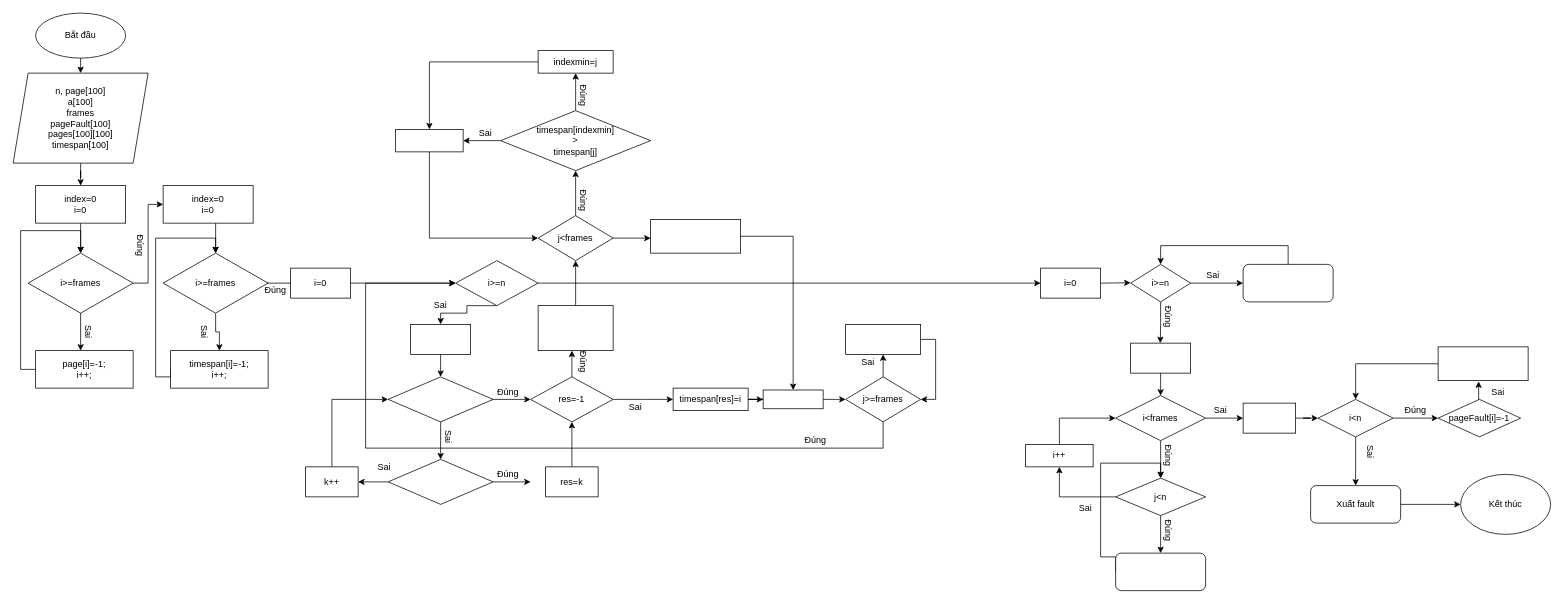
Some shapes in this 1564 by 604 pixel diagram are drawn without their labels. The shapes that lost their labels are listed below. From the top down, each one's box as (x1, y1, x2, y2) in pixels, then its label:
(395, 129, 463, 152): j++
(650, 219, 741, 253): page[indexmin]=a[i] timespan[indexmin]=i
(1242, 264, 1333, 302): Xuất a[i] i++
(410, 324, 471, 354): k=0 res=-1
(537, 305, 613, 351): indexmin=0 pageFault[i]=-1 j=0
(845, 324, 921, 354): pages[i][j]=page[j] j++
(1130, 342, 1191, 373): i=0 j=0
(1437, 346, 1528, 381): fault++
(387, 376, 493, 422): k<=frames
(762, 389, 823, 409): j=0
(1242, 402, 1296, 433): fault=0 i=0
(387, 459, 493, 504): a[i]=page[k]
(1115, 552, 1206, 591): Xuất page[i][j] j++
